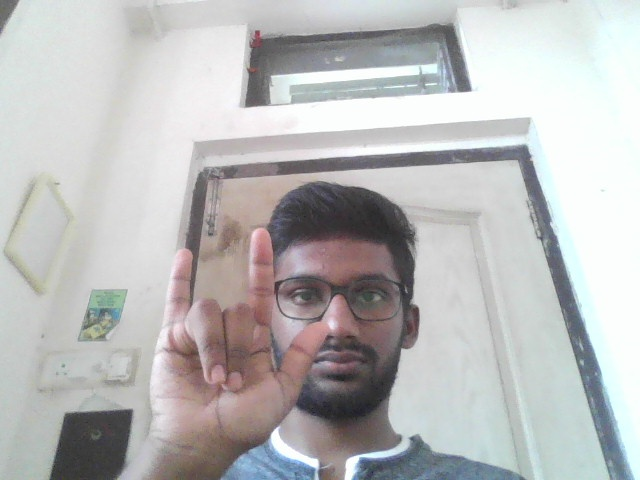I Love You: (130, 224, 331, 451)
